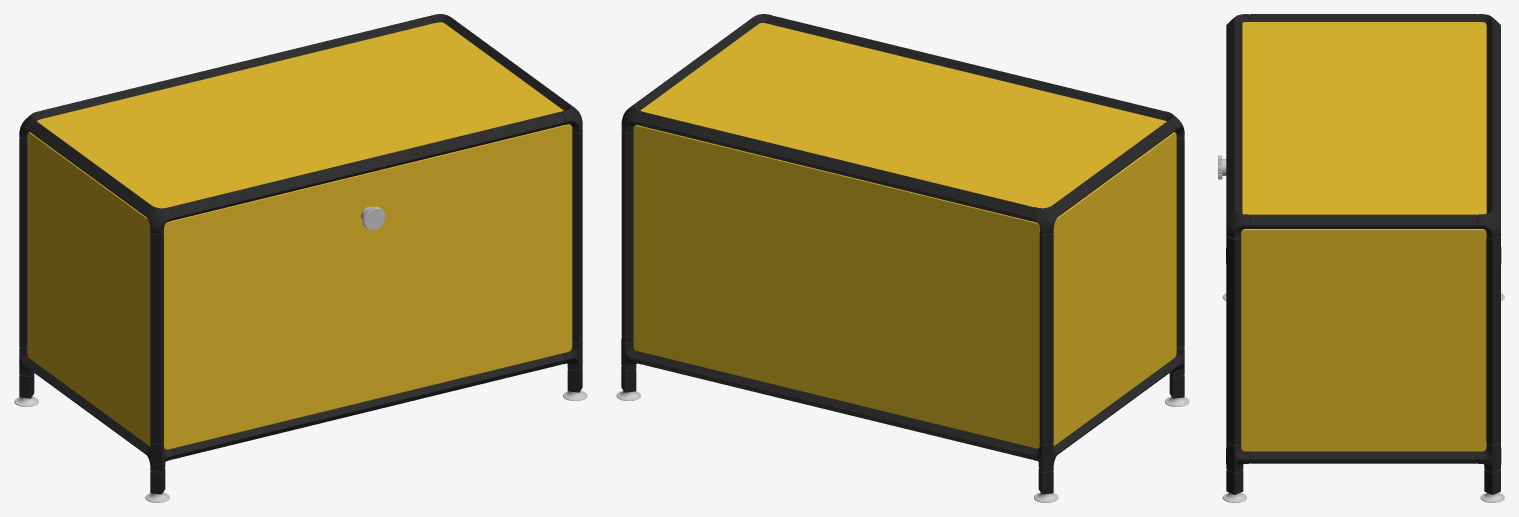
3 views of the same model, side by side, from view 1: azimuth 30°, elevation 25°; view 2: azimuth 150°, elevation 25°; view 3: azimuth 270°, elevation 25° (orthographic).
Visible parts, largest first — view 1: 729x374x374; view 2: 729x374x374; view 3: 729x374x374.
Boxes of the visible parts, x1,y1,x2,y2 form: 729x374x374: (14, 14, 587, 502); 729x374x374: (616, 14, 1189, 502); 729x374x374: (1218, 14, 1504, 502).
Size of the model in its own units: 0.8189 by 0.5133 by 0.4707.
